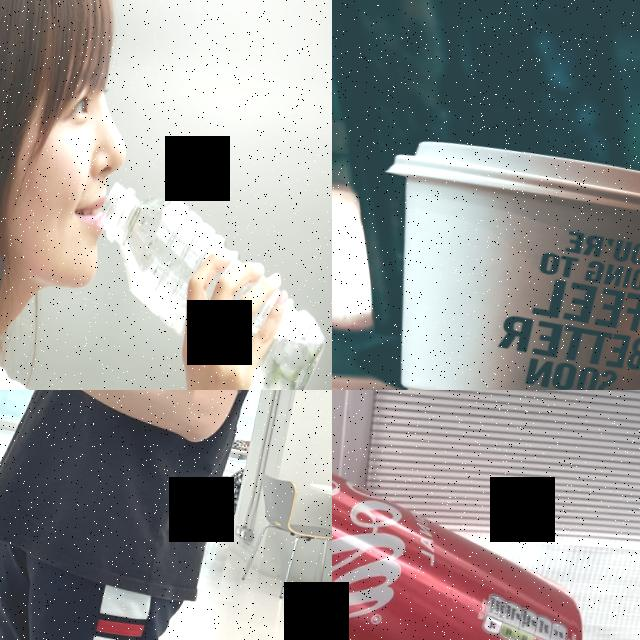bottle: (67, 177, 332, 390)
can: (332, 416, 611, 640)
cup: (346, 125, 640, 390)
